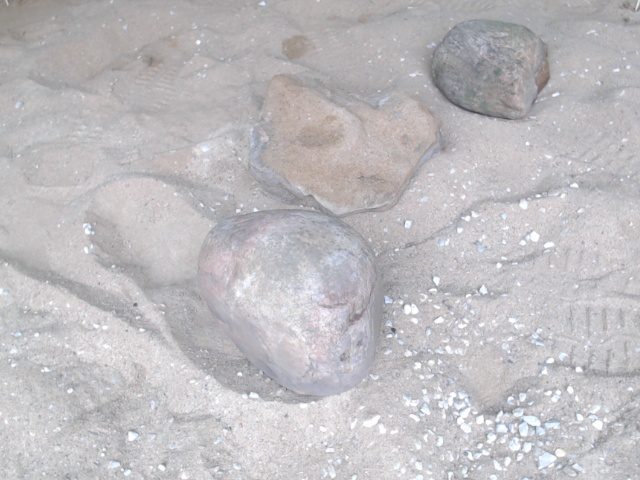rock: (196, 209, 383, 398), (247, 74, 444, 216), (428, 19, 550, 120)
